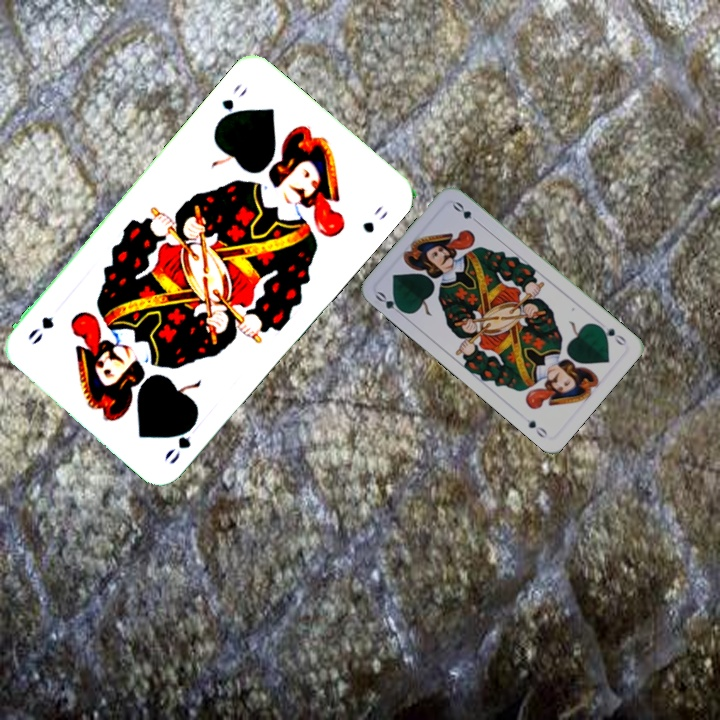GO: (160, 414, 201, 467), (213, 80, 250, 128), (371, 287, 408, 319), (593, 321, 629, 349)
